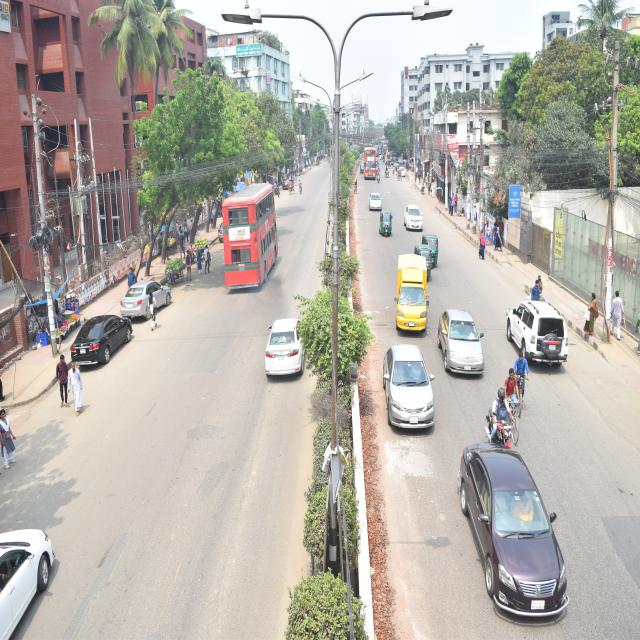bus: (217, 180, 283, 291)
car: (454, 441, 575, 628), (0, 518, 59, 640), (380, 345, 438, 432), (504, 296, 568, 367), (436, 308, 489, 381), (72, 314, 133, 367), (265, 314, 307, 387), (121, 275, 174, 320), (403, 198, 424, 235), (366, 189, 384, 213)
motorbike: (480, 405, 516, 448)
pickup-van: (393, 252, 430, 334)
